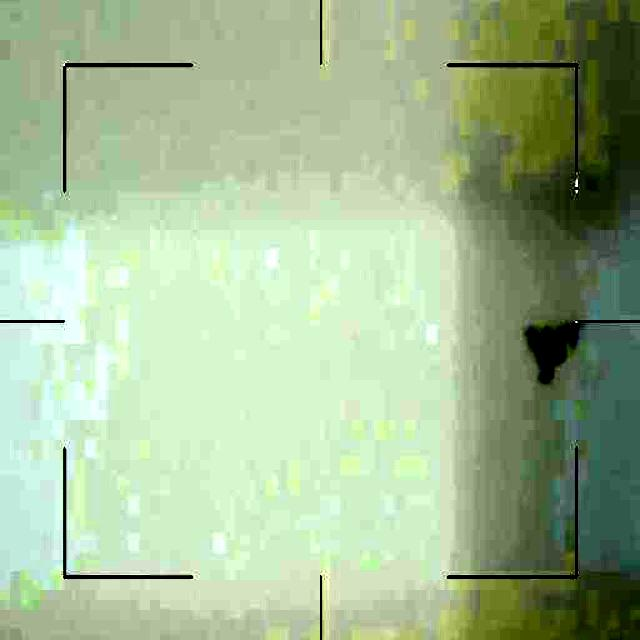bird: (521, 316, 586, 380)
